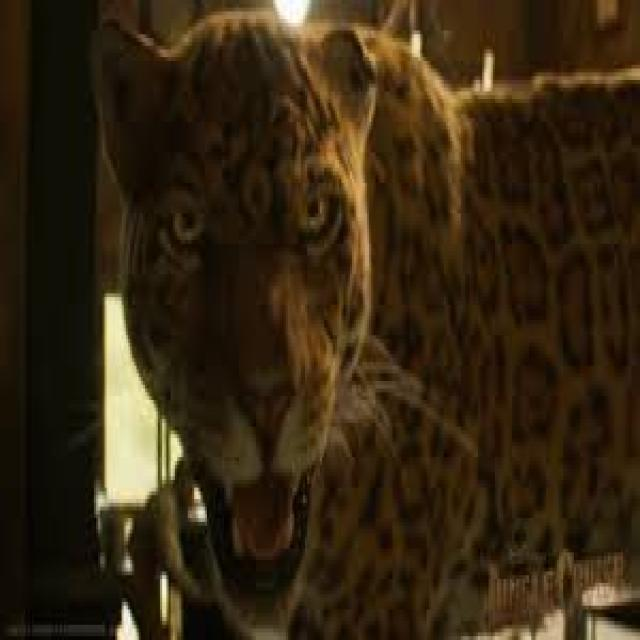Jaguar: (94, 8, 640, 624)
